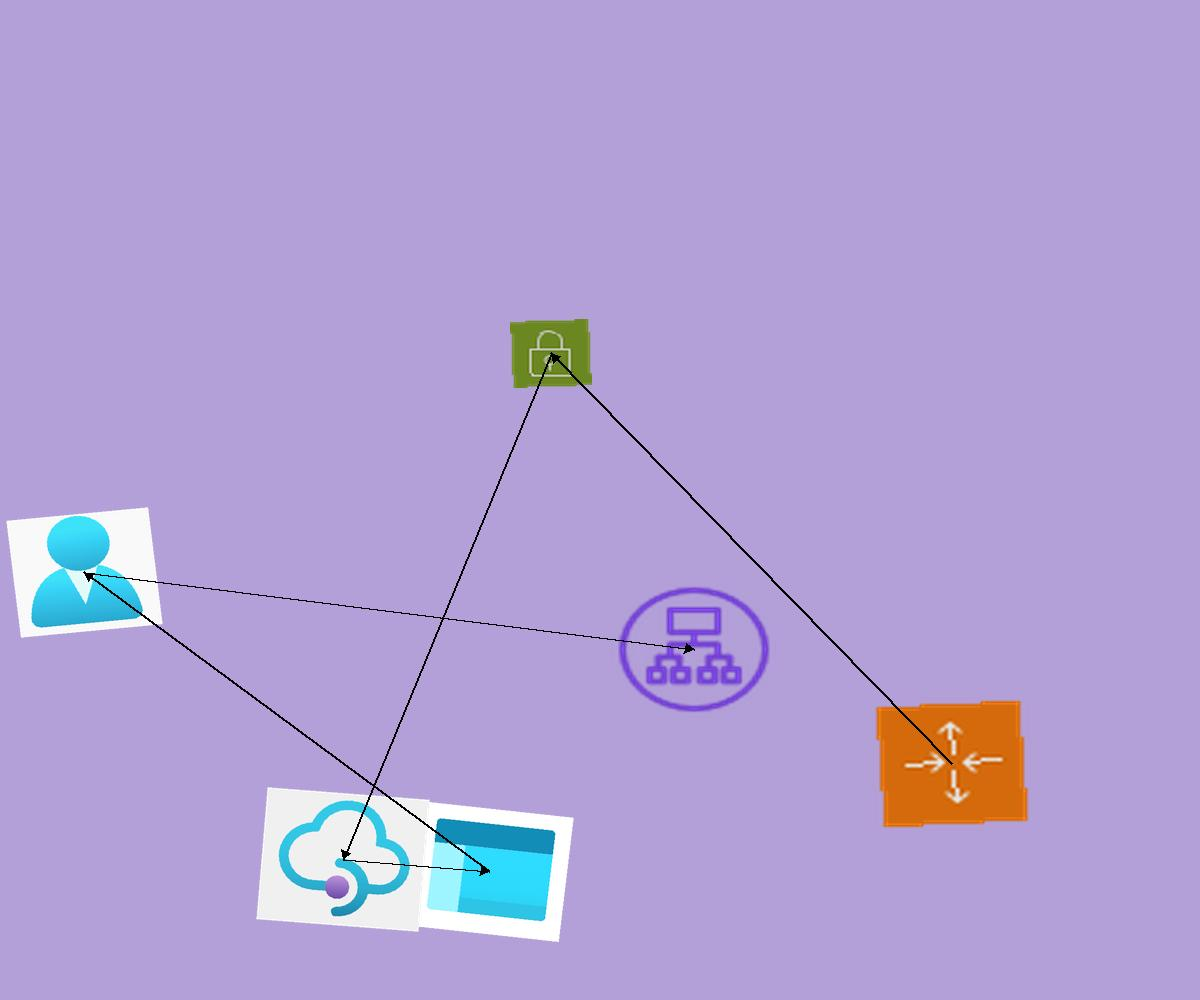AWS-Public-subnet: (510, 319, 592, 388)
AWS-Res_Elastic-Load-Balancing_Application-Load-Balancer: (609, 579, 779, 720)
AWS-Scaling-group: (873, 698, 1031, 830)
Azure_api_gateway: (256, 787, 430, 932)
Azure_management-portal: (405, 801, 574, 942)
Azure_users: (6, 507, 163, 638)
